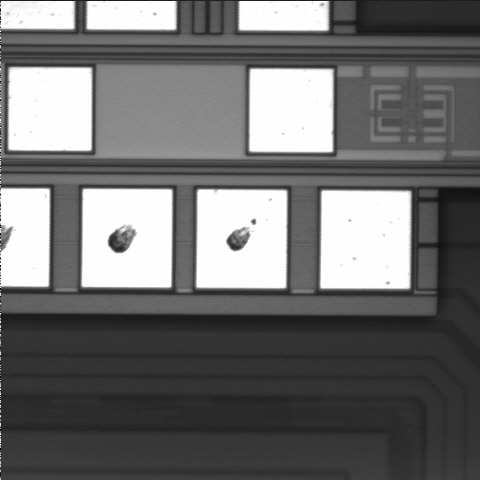pad: (320, 191, 411, 289), (82, 189, 172, 287), (197, 190, 287, 288), (249, 69, 333, 152), (9, 68, 92, 151)
